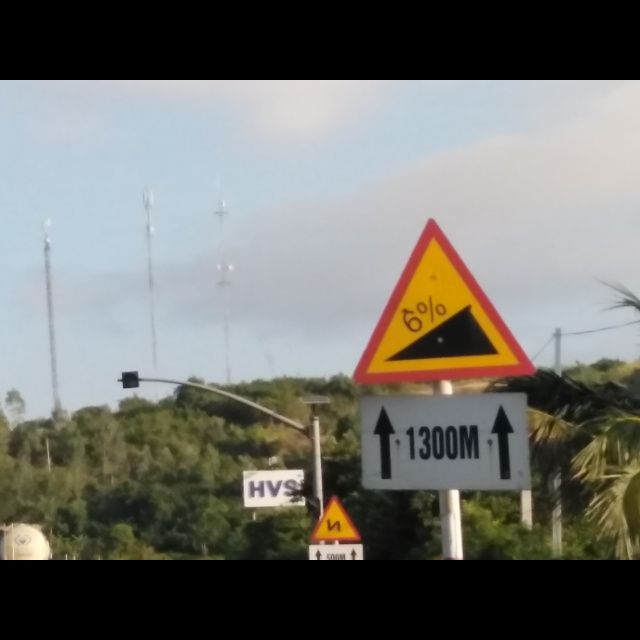Dốc lên nguy hiểm: (345, 215, 531, 388)
Ngoặt nguy hiểm liên tiếp bên phải: (309, 497, 361, 545)
